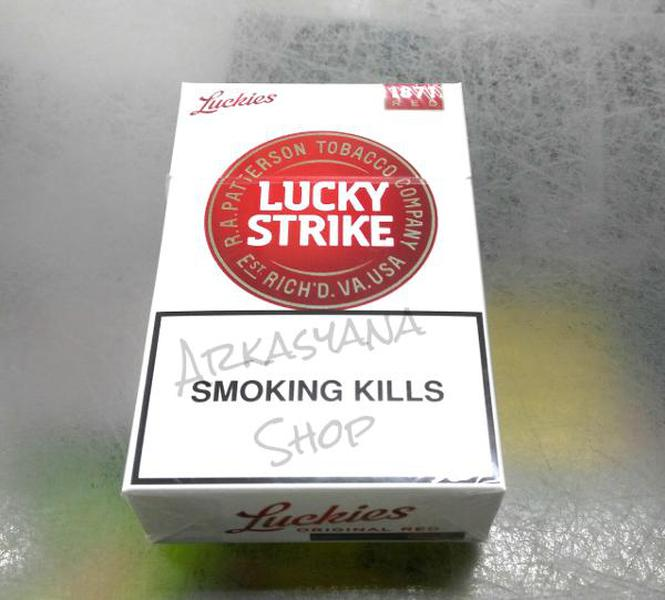lucky_strike_red: (178, 84, 468, 489)
